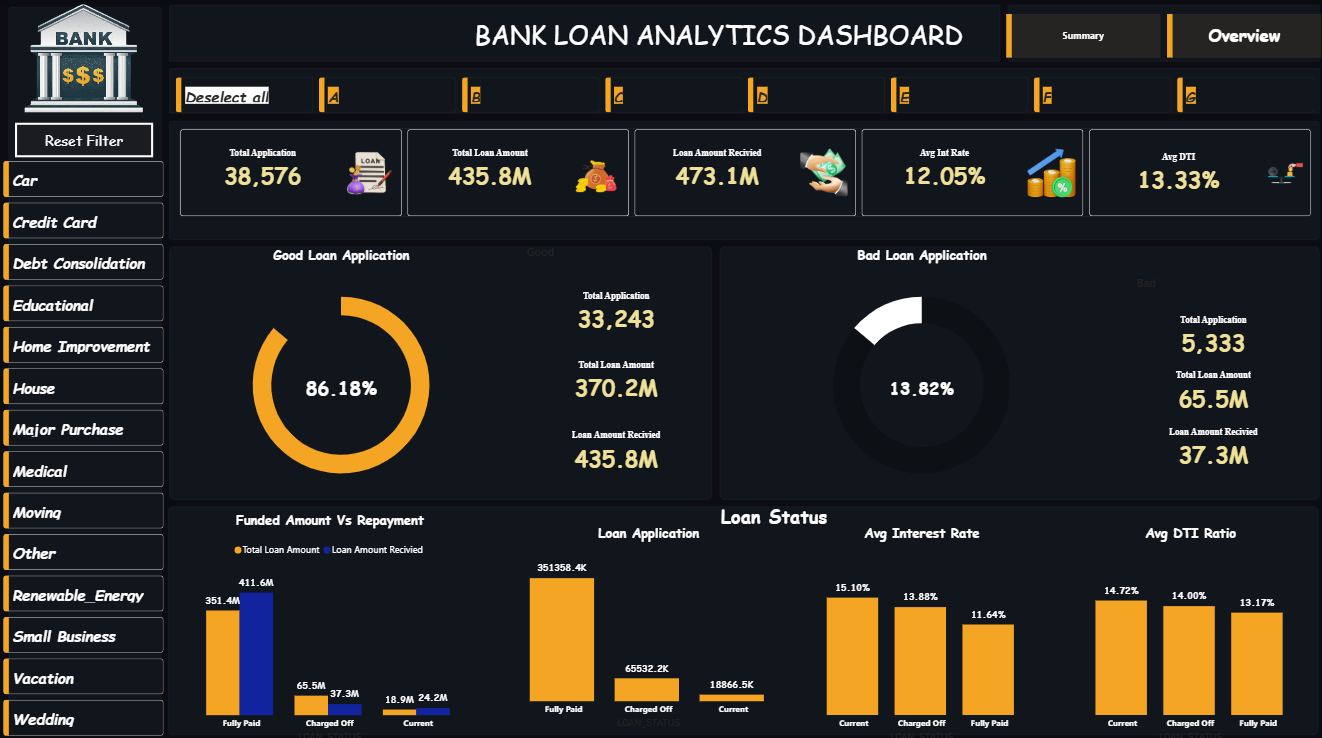

Layout of this report page (visuals, bound fields, positions):
{"tool":"powerbi","page":{"name":"Summary","canvas":[1920,1080],"ordinal":0},"visuals":[{"type":"cardVisual","fields":{"Data":["financial_loan.Total Application","financial_loan.Total Loan Amount","financial_loan.Loan Amount Recivied","financial_loan.Avg Int Rate","financial_loan.Avg DTI"]},"box":[242.5,170.1,1677.6,162.9],"z":0},{"type":"donutChart","title":"Good Loan Application ","fields":{"Category":["financial_loan.Good_Vs_Bad_Loan"],"Y":["financial_loan.Total Application"]},"box":[242.5,356.5,503.1,367.4],"z":1000},{"type":"donutChart","title":"Bad Loan Application ","fields":{"Category":["financial_loan.Good_Vs_Bad_Loan"],"Y":["financial_loan.Total Application"]},"box":[1040.6,356.5,588.1,367.4],"z":2000},{"type":"cardVisual","fields":{"Data":["financial_loan.Good Loan %"]},"box":[405.4,504.9,178.4,111.1],"z":3000},{"type":"cardVisual","fields":{"Data":["financial_loan.Total Bad Loan%"]},"box":[1250.5,470.5,168.3,182.8],"z":4000},{"type":"cardVisual","fields":{"Data":["financial_loan.Total Application","financial_loan.Total Loan Amount","financial_loan.Loan Amount Recivied"],"Rows":["financial_loan.Good_Vs_Bad_Loan"]},"box":[745.6,311.3,293.2,428.9],"z":5000},{"type":"cardVisual","fields":{"Data":["financial_loan.Total Application","financial_loan.Total Loan Amount","financial_loan.Loan Amount Recivied"],"Rows":["financial_loan.Good_Vs_Bad_Loan"]},"box":[1628.7,356.5,257,367.4],"z":6000},{"type":"clusteredColumnChart","title":"Funded Amount Vs Repayment","fields":{"Category":["financial_loan.LOAN_STATUS"],"Y":["financial_loan.Total Loan Amount","financial_loan.Loan Amount Recivied"]},"box":[242.5,740.2,470.5,340.2],"z":7000},{"type":"clusteredColumnChart","title":"Loan Application","fields":{"Category":["financial_loan.LOAN_STATUS"],"Y":["financial_loan.Total Loan Amount"]},"box":[713,760.1,452.4,300.4],"z":8000},{"type":"textbox","box":[1038.7,723.9,300,150],"z":9000},{"type":"clusteredColumnChart","title":"Avg Interest Rate","fields":{"Category":["financial_loan.LOAN_STATUS"],"Y":["financial_loan.Avg Int Rate"]},"box":[1152.8,760.1,363.7,320.3],"z":10000},{"type":"clusteredColumnChart","title":"Avg DTI Ratio","fields":{"Category":["financial_loan.LOAN_STATUS"],"Y":["financial_loan.Avg DTI"]},"box":[1541.8,760.1,363.7,320.3],"z":11000},{"type":"image","box":[0,0,242.5,170.1],"z":12000},{"type":"advancedSlicerVisual","fields":{"Values":["financial_loan.PURPOSE"]},"box":[0,229.8,242.5,850.5],"z":13000},{"type":"advancedSlicerVisual","fields":{"Values":["financial_loan.GRADE"]},"box":[249.7,108.6,1663.1,61.5],"z":14000},{"type":"actionButton","box":[21.7,179.2,200,50],"z":15000},{"type":"textbox","box":[199.1,21.7,1683,101.3],"z":16000},{"type":"pageNavigator","box":[1456.8,21.7,456,63.3],"z":17000}]}

Visuals, with their boxes in screenshot pixels (x1, y1, x2, y2), scaled from the page's 1920x1080 canvas onto the 1322x738 screenshot:
cardVisual - financial_loan.Total Application x financial_loan.Total Loan Amount: (x1=167, y1=116, x2=1321, y2=228)
"Good Loan Application " donutChart: (x1=167, y1=244, x2=513, y2=495)
"Bad Loan Application " donutChart: (x1=716, y1=244, x2=1121, y2=495)
cardVisual - financial_loan.Good Loan %: (x1=279, y1=345, x2=402, y2=421)
cardVisual - financial_loan.Total Bad Loan%: (x1=861, y1=322, x2=977, y2=446)
cardVisual - financial_loan.Total Application x financial_loan.Total Loan Amount: (x1=513, y1=213, x2=715, y2=506)
cardVisual - financial_loan.Total Application x financial_loan.Total Loan Amount: (x1=1121, y1=244, x2=1298, y2=495)
"Funded Amount Vs Repayment" clusteredColumnChart: (x1=167, y1=506, x2=491, y2=737)
"Loan Application" clusteredColumnChart: (x1=491, y1=519, x2=802, y2=725)
textbox: (x1=715, y1=495, x2=922, y2=597)
"Avg Interest Rate" clusteredColumnChart: (x1=794, y1=519, x2=1044, y2=737)
"Avg DTI Ratio" clusteredColumnChart: (x1=1062, y1=519, x2=1312, y2=737)
image: (x1=0, y1=0, x2=167, y2=116)
advancedSlicerVisual - financial_loan.PURPOSE: (x1=0, y1=157, x2=167, y2=737)
advancedSlicerVisual - financial_loan.GRADE: (x1=172, y1=74, x2=1317, y2=116)
actionButton: (x1=15, y1=122, x2=153, y2=157)
textbox: (x1=137, y1=15, x2=1296, y2=84)
pageNavigator: (x1=1003, y1=15, x2=1317, y2=58)
